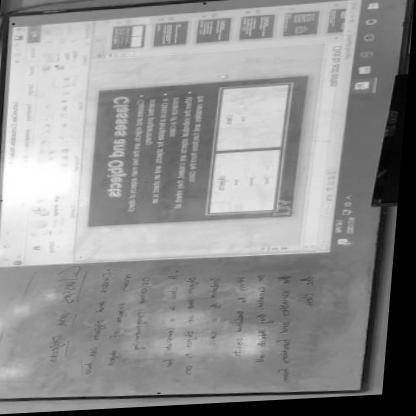Handwritten text: (29, 255, 93, 373), (78, 266, 121, 384), (272, 274, 306, 391), (104, 269, 140, 373), (182, 275, 209, 383), (160, 273, 188, 375), (251, 273, 279, 372), (130, 274, 161, 356), (231, 274, 255, 363), (206, 276, 229, 355), (303, 277, 326, 315)
Whiteboard: (0, 0, 409, 400)
